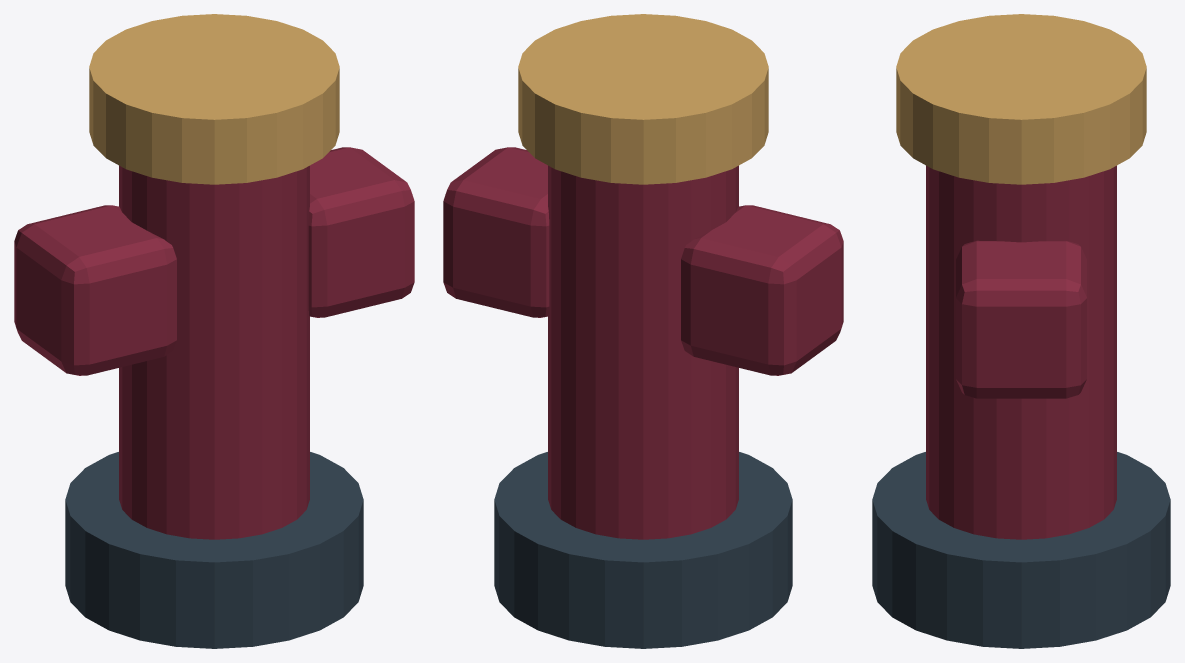
Rendered from SM_Hydrant.fbx.
3 views of the same model, side by side, from view 1: azimuth 30°, elevation 25°; view 2: azimuth 150°, elevation 25°; view 3: azimuth 270°, elevation 25° (orthographic).
Parts seen in each view (by area): view 1: SM_Hydrant; view 2: SM_Hydrant; view 3: SM_Hydrant.
Boxes of the visible parts, x1,y1,x2,y2 form: SM_Hydrant: [14, 14, 414, 648]; SM_Hydrant: [443, 14, 843, 648]; SM_Hydrant: [872, 14, 1170, 648].
Size of the model in its own units: 68 by 50 by 96.
